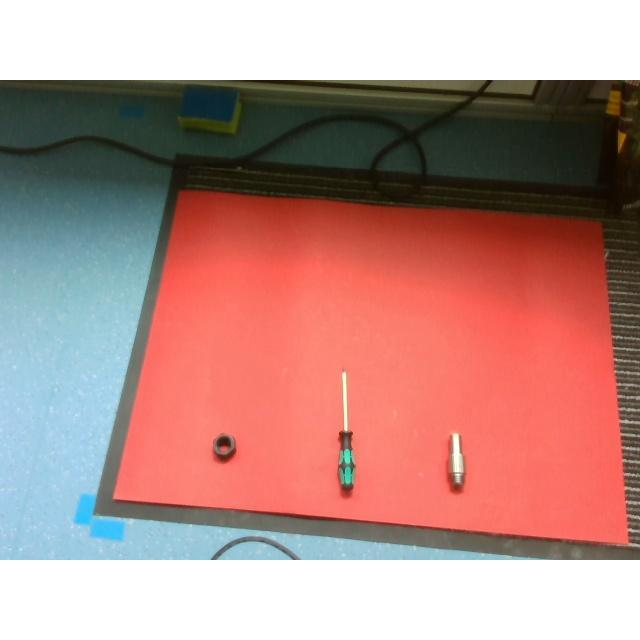Axis2: (448, 433, 464, 491)
M20: (212, 432, 236, 460)
Screwdriver: (336, 367, 354, 491)
